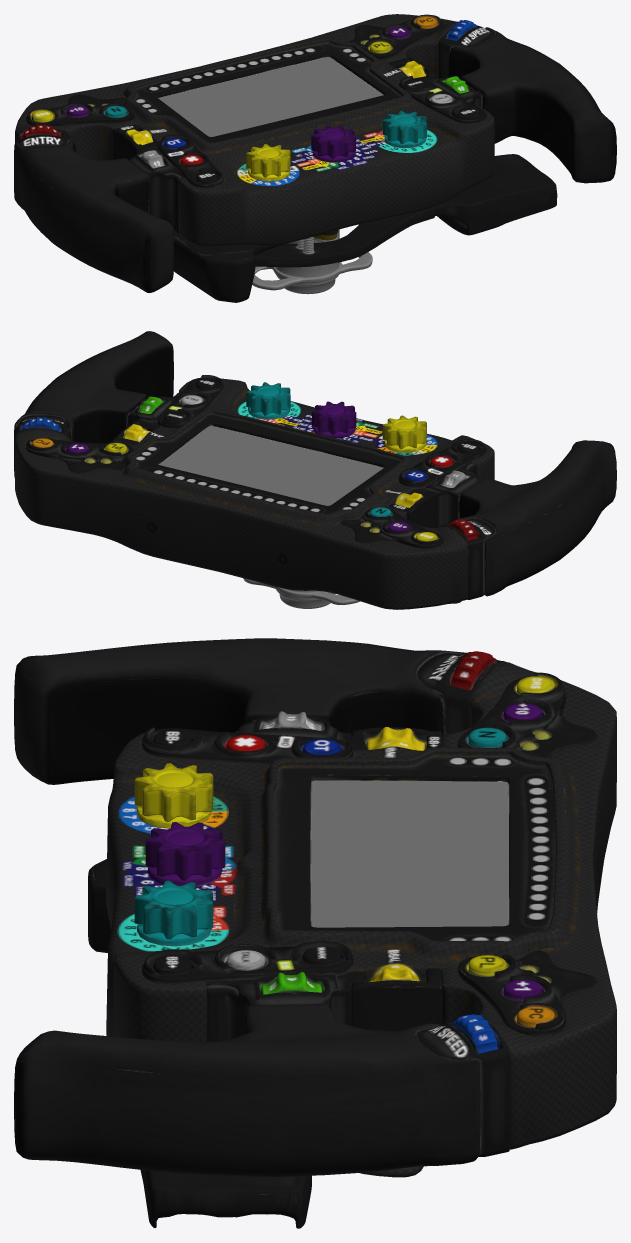
Rendered from steering_wheel.glb.
3 views of the same model, one above another, from view 1: azimuth 30°, elevation 25°; view 2: azimuth 150°, elevation 25°; view 3: azimuth 270°, elevation 25° (orthographic). The views are drawn at different scales.
Parts seen in each view (by area): view 1: steering_wheel; view 2: steering_wheel; view 3: steering_wheel.
Part boxes in pixels (x1,y1,x2,y2): steering_wheel: (14,14,616,302); steering_wheel: (14,331,616,609); steering_wheel: (14,638,616,1228).
Size of the model in its own units: 3.2 by 1 by 1.83.
1 material, 1 textured.
